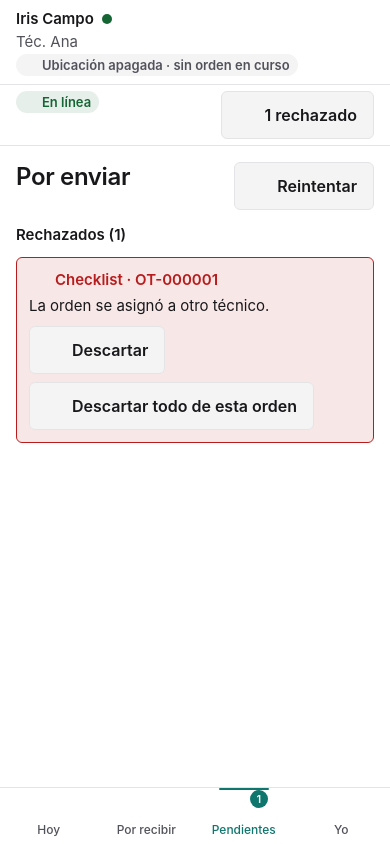
Scenario: app de campo (light) › descartar un rechazo terminal (orden reasignada) descarta lo pendiente de esa orden
Expected: the message with test id "rechazo" shows "La orden se asignó a otro técnico", [29,296,269,315]
Click the button "Descartar todo de esta orden". click: click(172, 406)
box: [29,382,314,430]
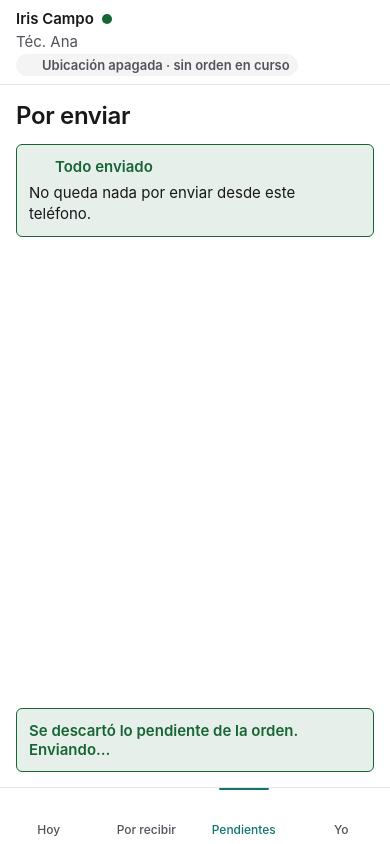
Expected: the element with test id "barra-conexion" is gone
